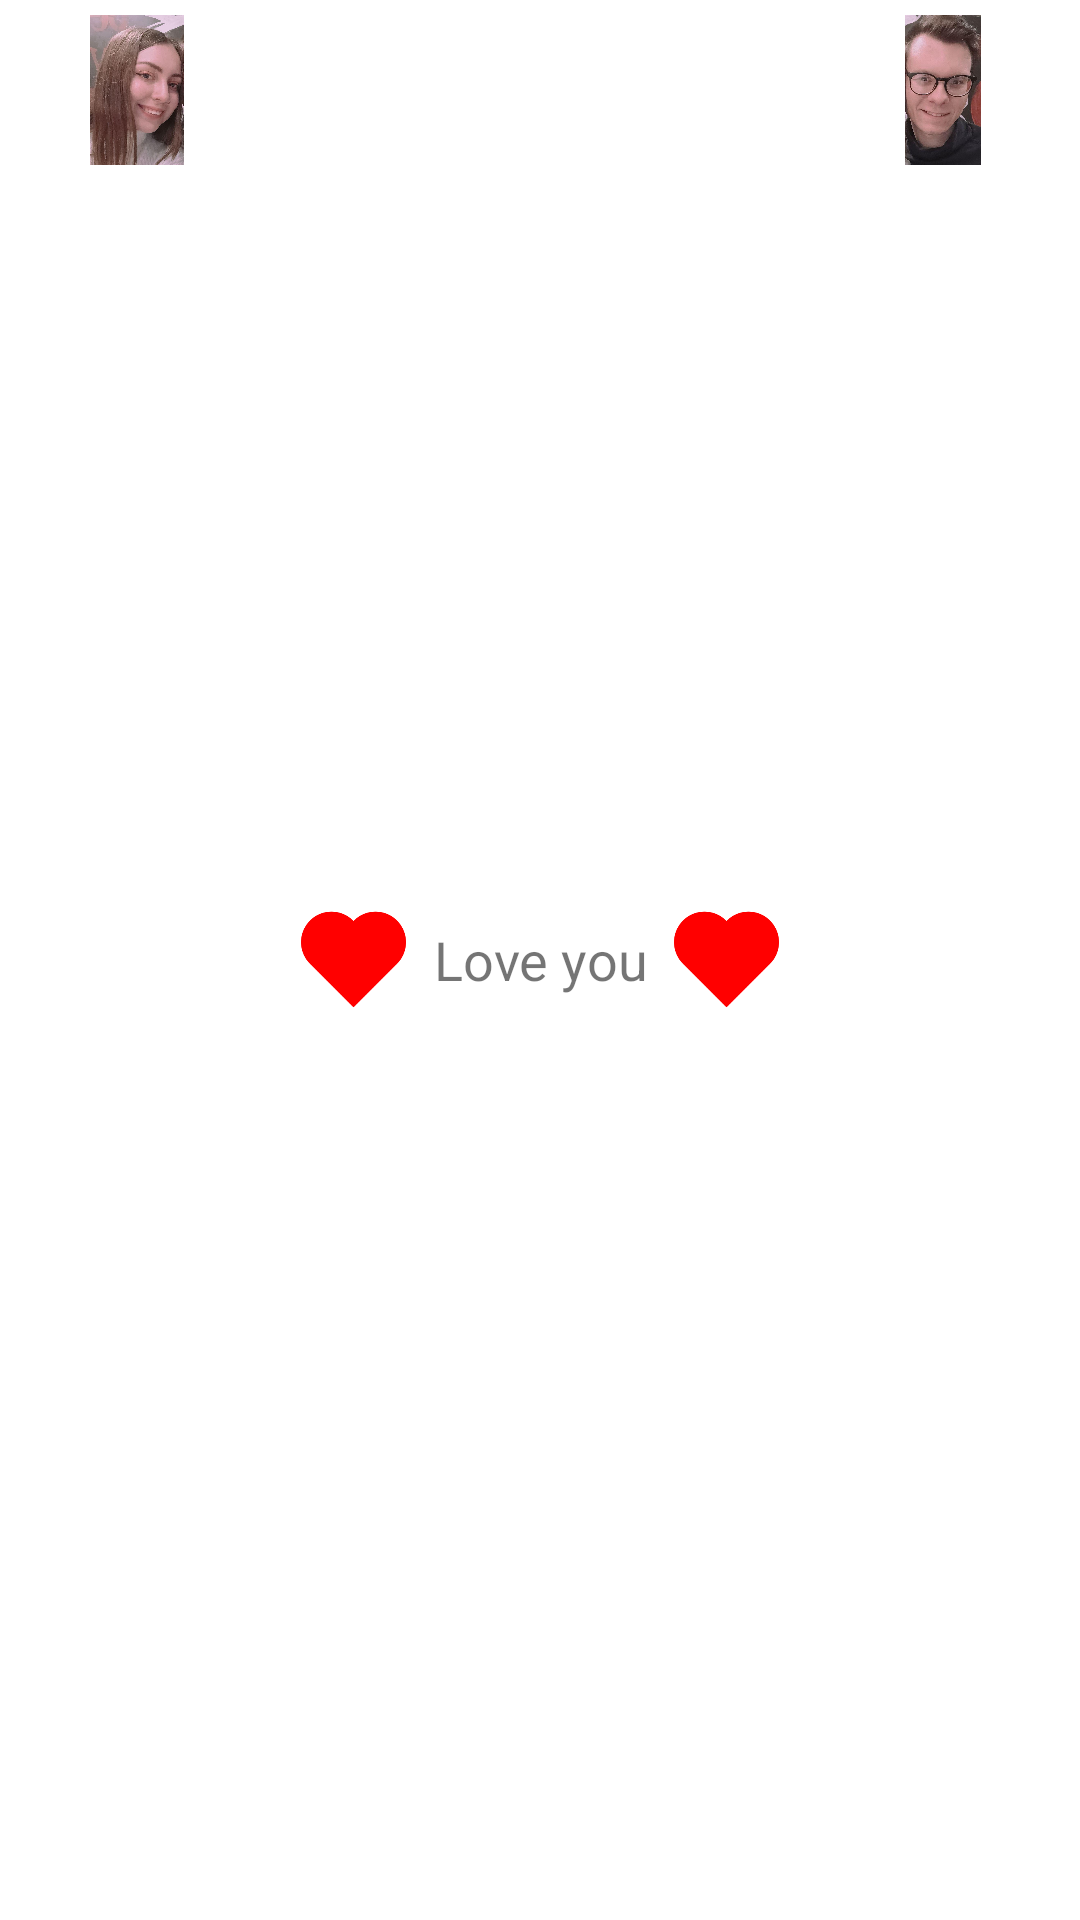

Locate icon controls on the screen. Image size 1080*1920, boxes as [x1, y1, x2, y2].
heart: [301, 911, 406, 1007], [674, 911, 779, 1007]
